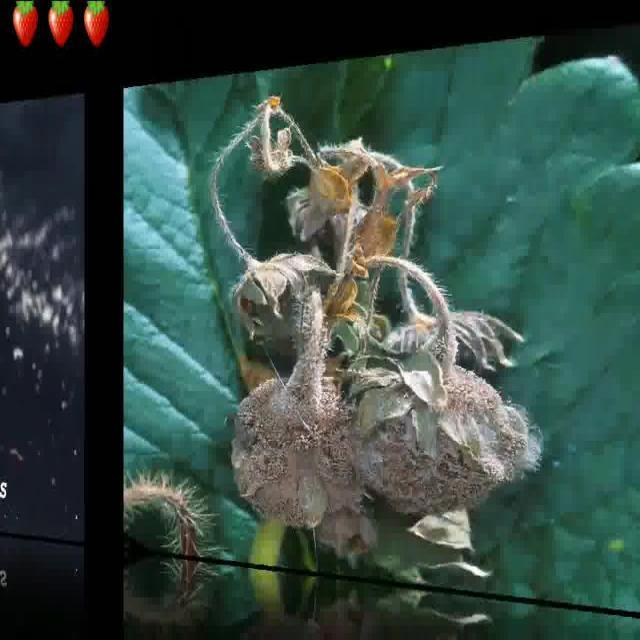Moho gris: (373, 318, 523, 537), (233, 336, 353, 532)
